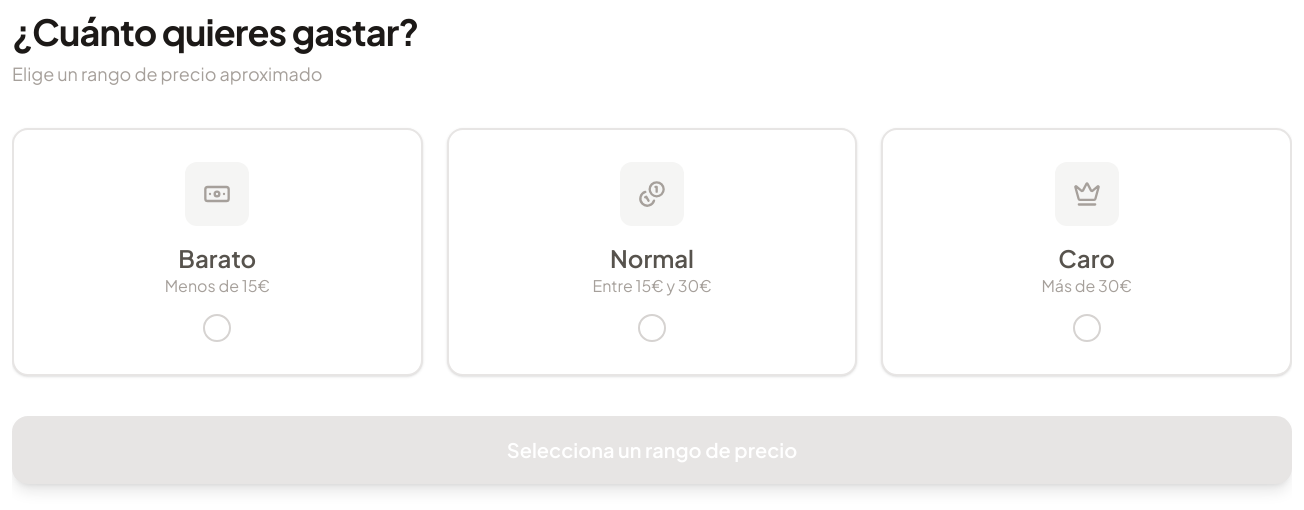
it: QuestionPrice › Spanish (default) › button is enabled after selecting a price
Click the text "Normal": (652, 258) left=610, top=243, right=694, bottom=273
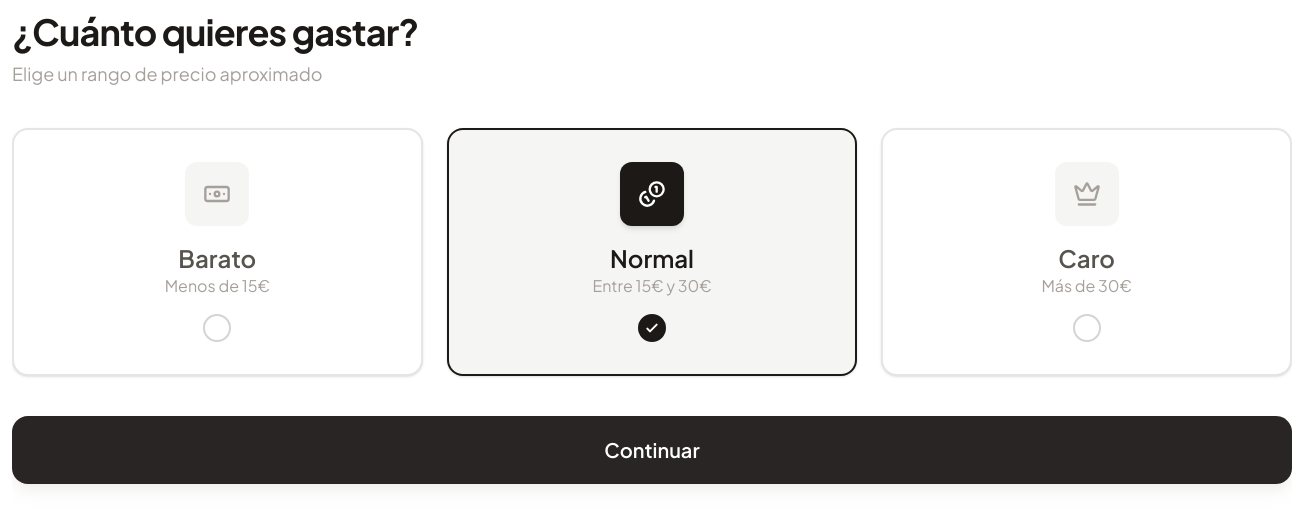
Now the button "Continuar" is enabled, box left=12, top=416, right=1292, bottom=484
